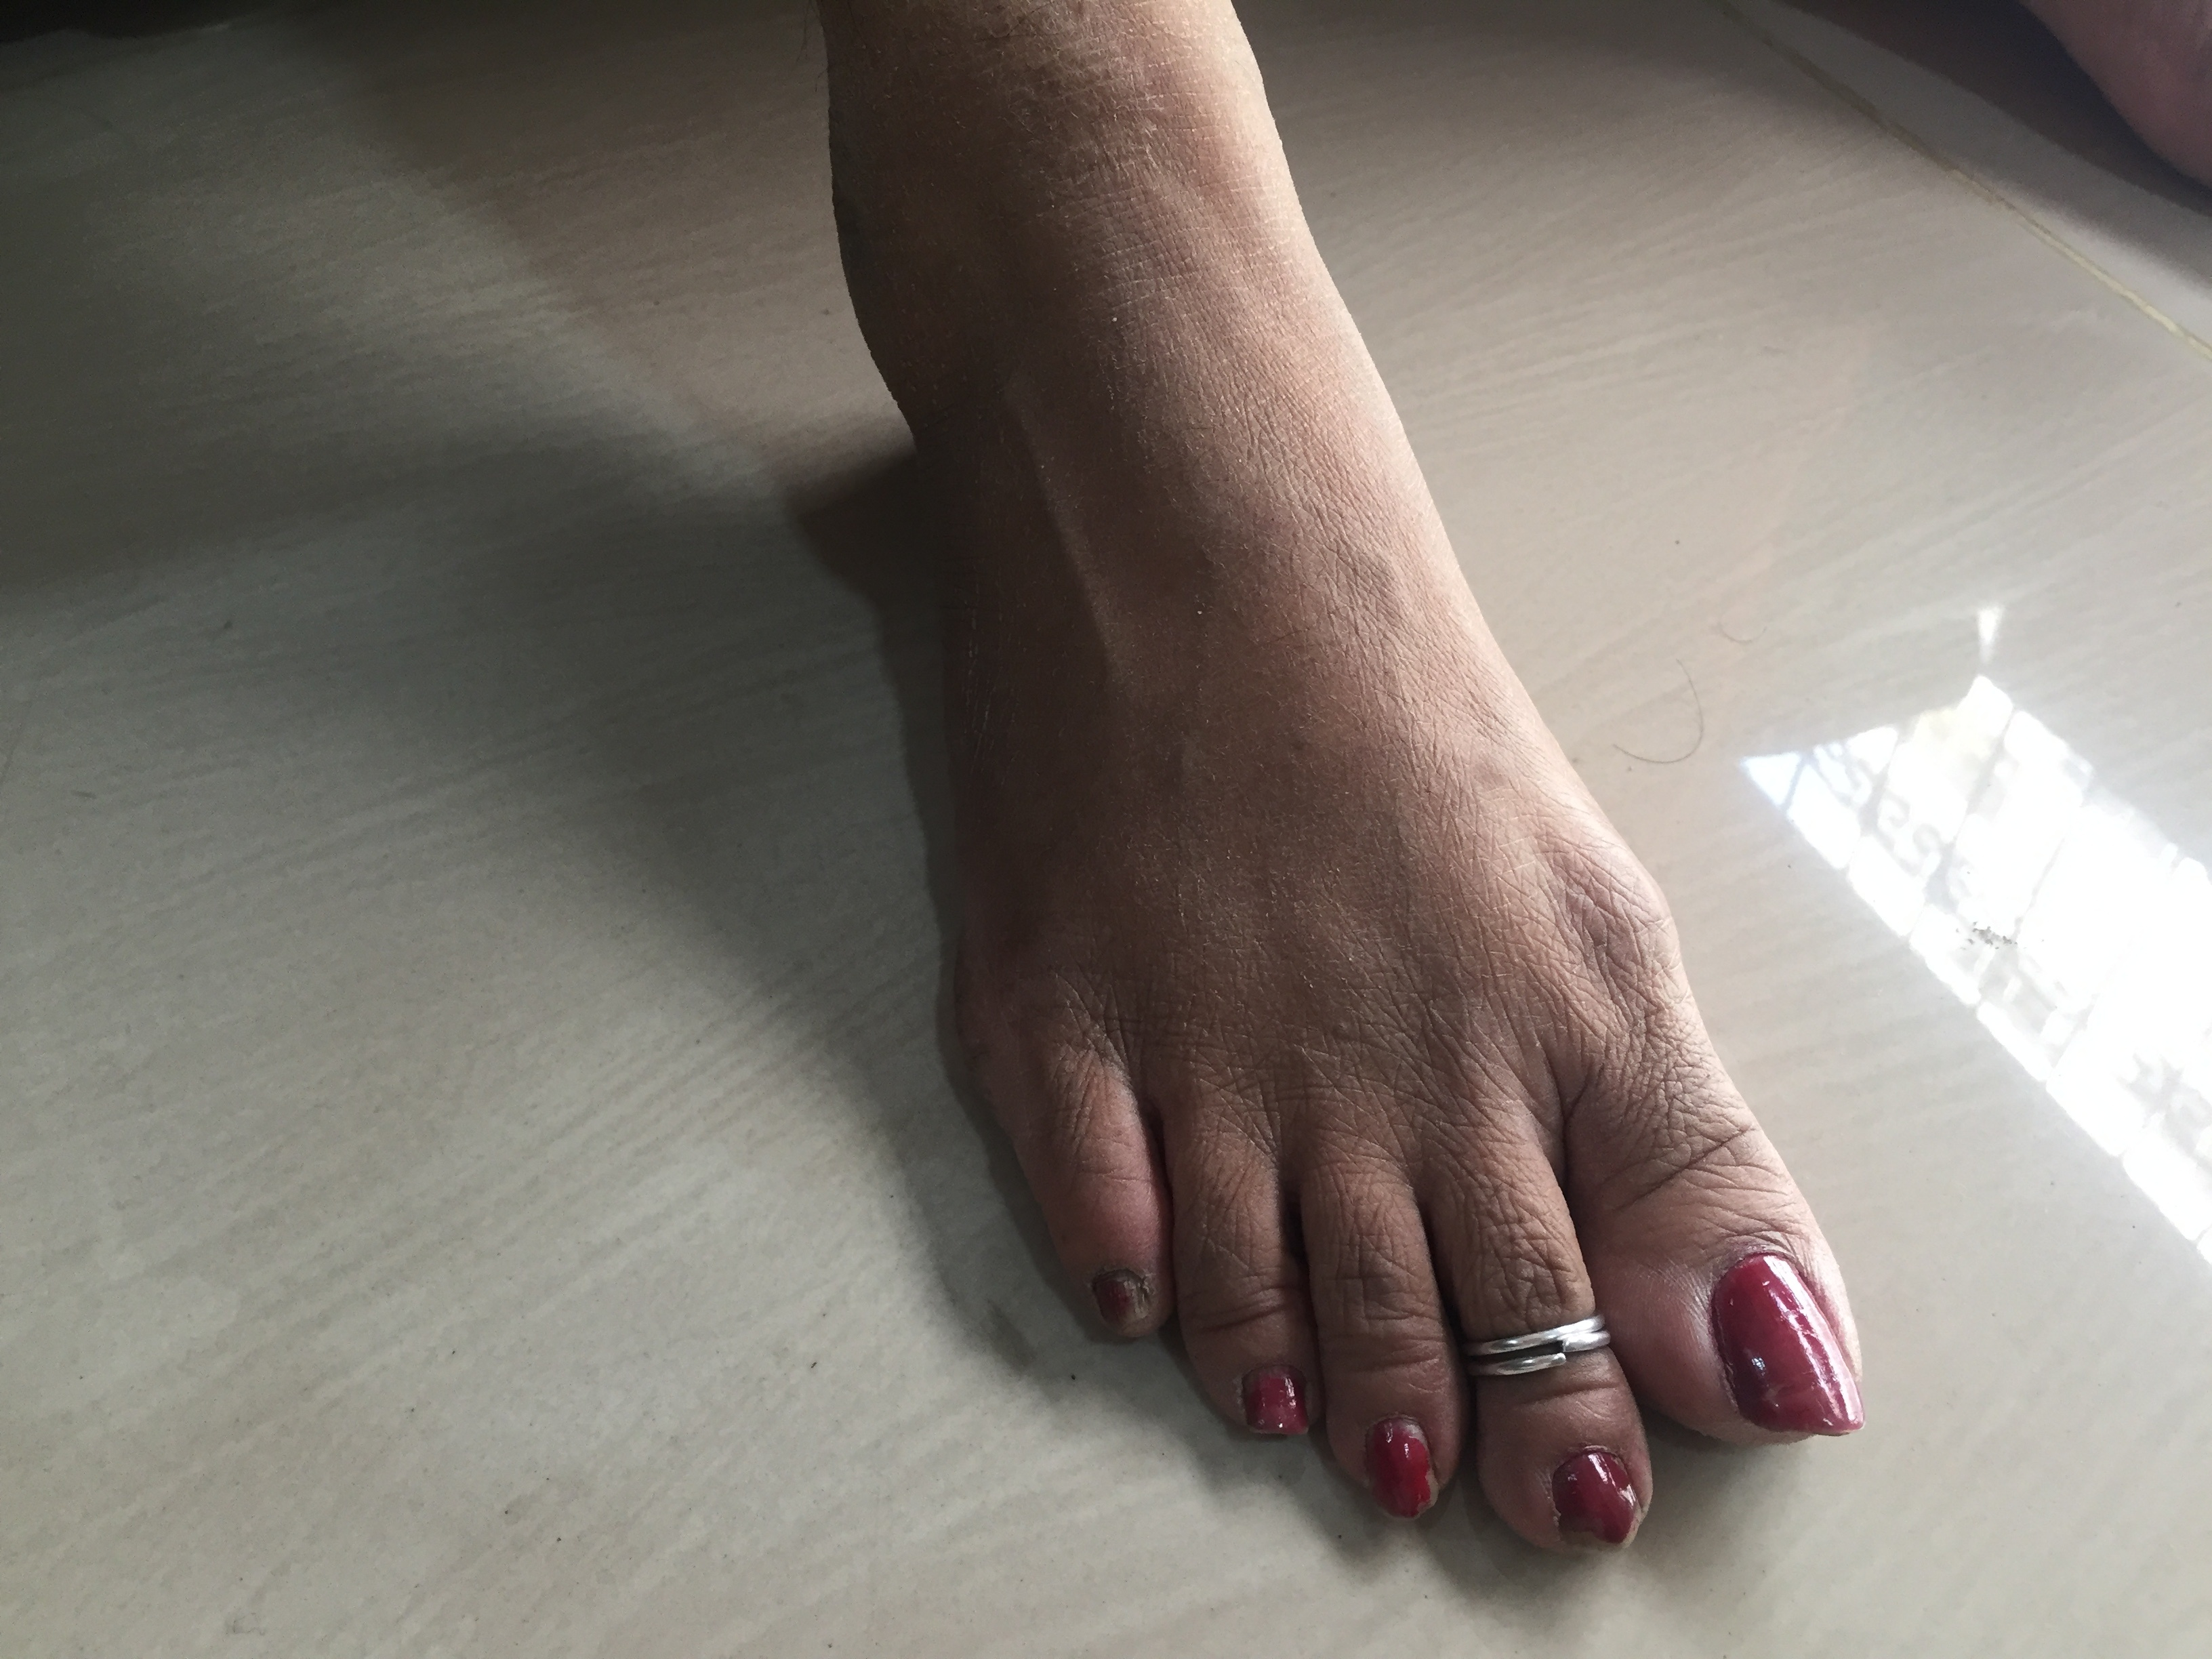feet: (711, 96, 1886, 1568)
